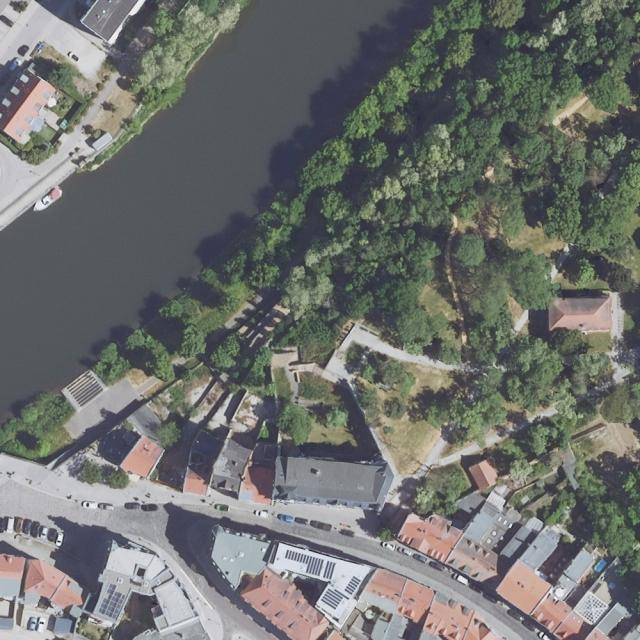PV: (285, 549, 324, 576), (97, 583, 125, 619), (321, 588, 350, 610), (343, 574, 362, 596), (323, 561, 336, 579)
